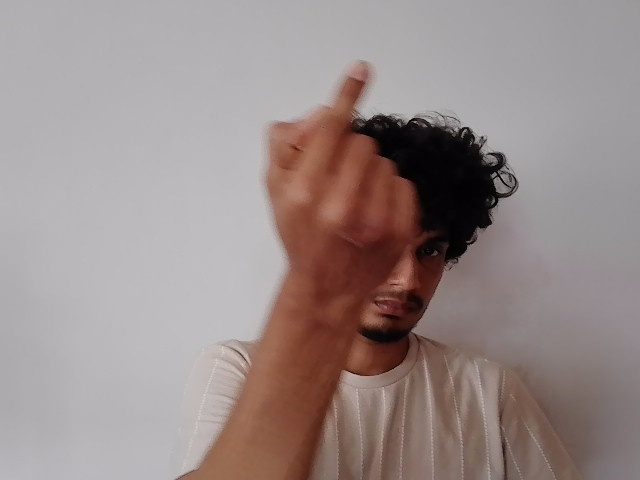just: (261, 59, 419, 292)
